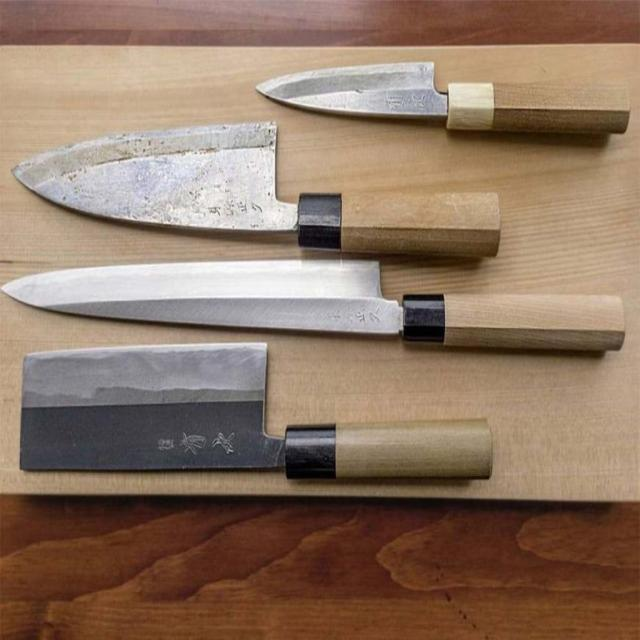Pisau: (2, 251, 634, 354)
